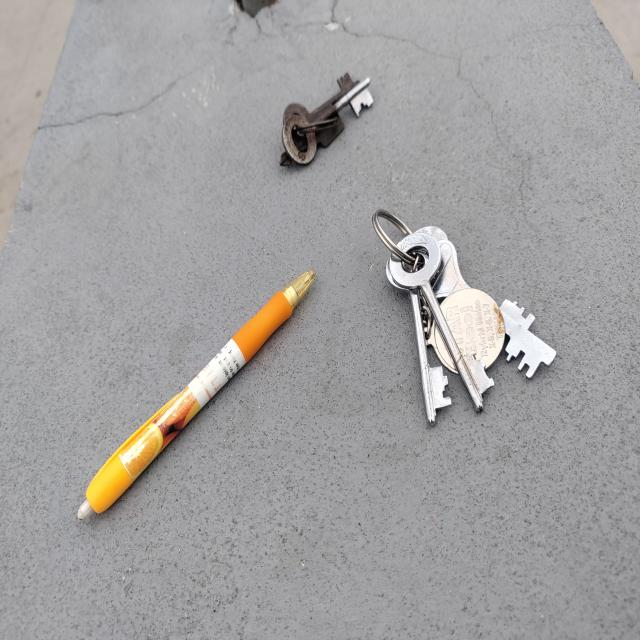metal: (373, 208, 557, 424), (276, 72, 373, 164)
plastic: (80, 268, 319, 519)
